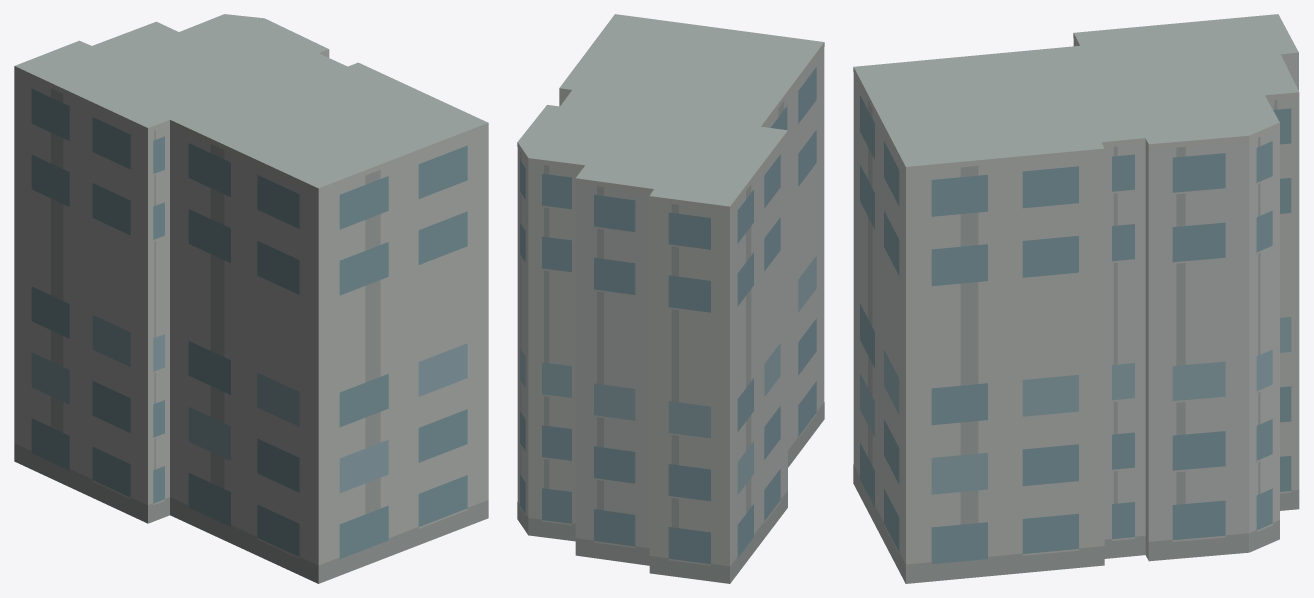
The model's file is survey-upis-32610104.glb.
3 renders of one model, left to right at view 1: azimuth 30°, elevation 25°; view 2: azimuth 150°, elevation 25°; view 3: azimuth 270°, elevation 25°, orthographic. The views are drawn at different scales.
Parts seen in each view (by area): view 1: survey-upis-32610104.tmp; view 2: survey-upis-32610104.tmp; view 3: survey-upis-32610104.tmp.
Boxes of the visible parts, x1,y1,x2,y2 form: survey-upis-32610104.tmp: [14, 14, 488, 583]; survey-upis-32610104.tmp: [517, 14, 824, 583]; survey-upis-32610104.tmp: [853, 14, 1299, 583].
Bounding box in the file's own units: 14.41 × 18.3 × 17.75.
